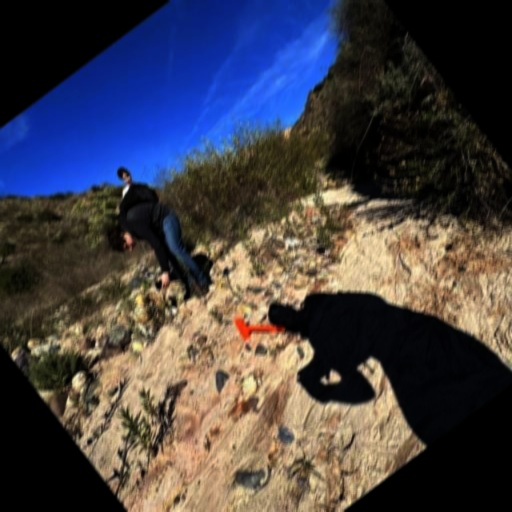mallet: (232, 298, 288, 354)
